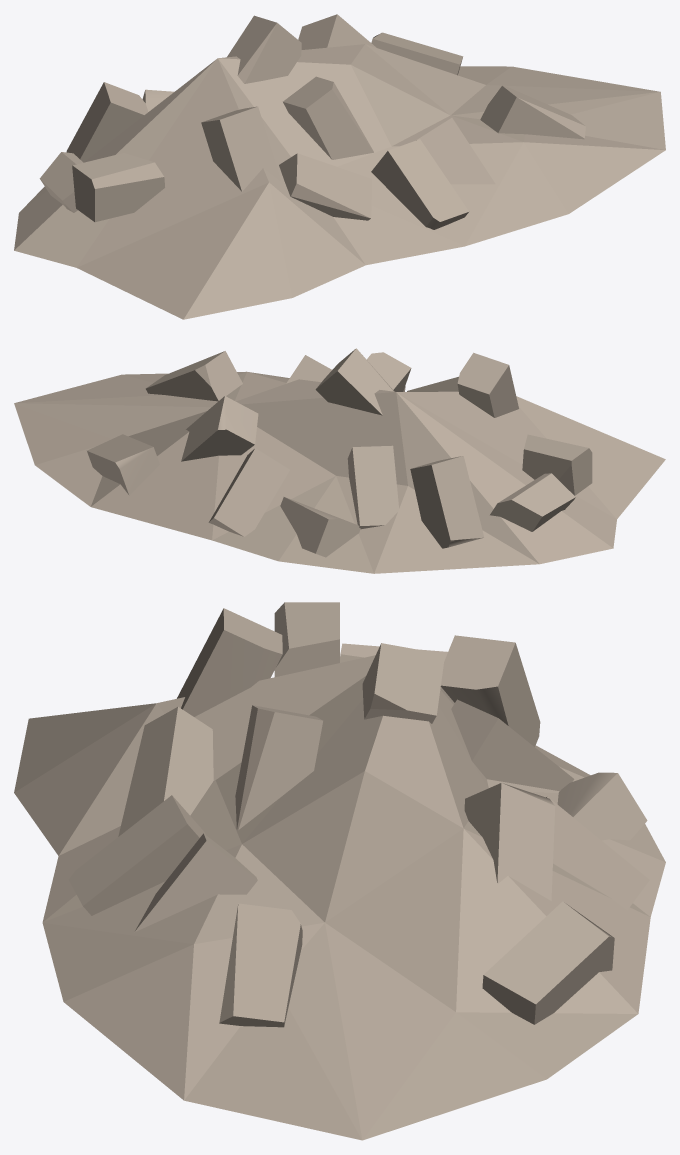
File: SM_Prop_DebrisPile_03.fbx
3 views of the same model, one above another, from view 1: azimuth 30°, elevation 25°; view 2: azimuth 150°, elevation 25°; view 3: azimuth 270°, elevation 25° (orthographic). The views are drawn at different scales.
Visible parts, largest first — view 1: SM_Prop_DebrisPile_03; view 2: SM_Prop_DebrisPile_03; view 3: SM_Prop_DebrisPile_03.
Boxes of the visible parts, x1,y1,x2,y2 form: SM_Prop_DebrisPile_03: [14, 14, 665, 319]; SM_Prop_DebrisPile_03: [14, 348, 665, 573]; SM_Prop_DebrisPile_03: [14, 602, 665, 1140].
Size of the model in its own units: 630 by 165 by 375.
